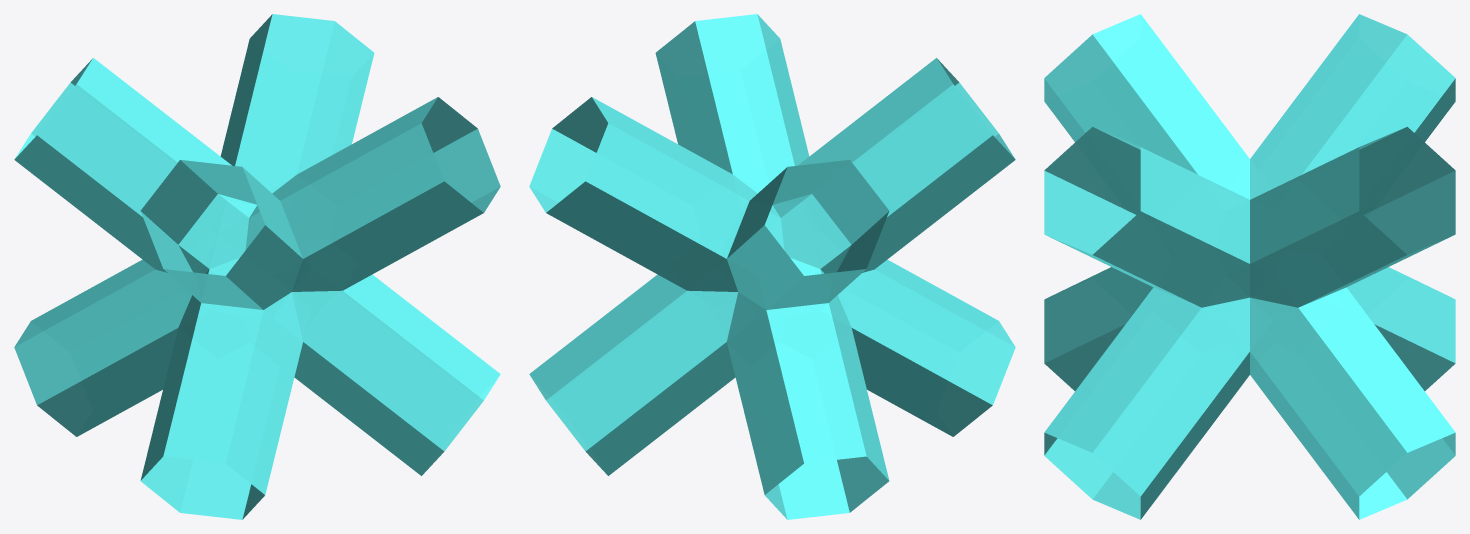
File: Hexahemioctacron.obj
3 views of the same model, side by side, from view 1: azimuth 30°, elevation 25°; view 2: azimuth 150°, elevation 25°; view 3: azimuth 270°, elevation 25° (orthographic). The views are drawn at different scales.
Bounding box in the file's own units: 6.03 × 6.03 × 6.03.
